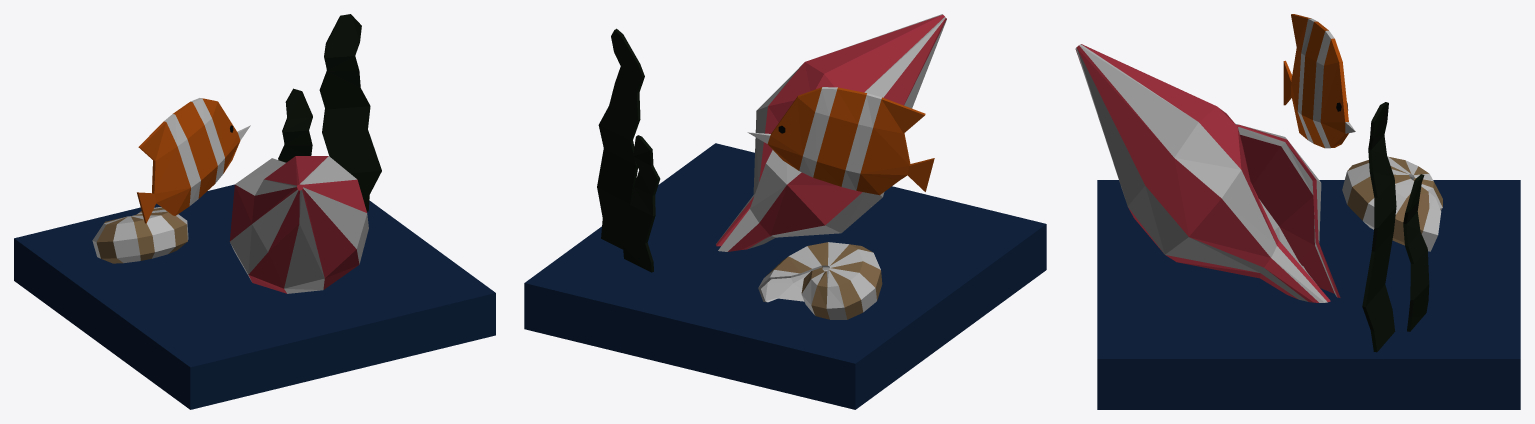
Rendered from W_O_Playground_SeaSymbolic_001_L2.fbx.
3 views of the same model, side by side, from view 1: azimuth 30°, elevation 25°; view 2: azimuth 150°, elevation 25°; view 3: azimuth 270°, elevation 25° (orthographic). The views are drawn at different scales.
Parts seen in each view (by area): view 1: W_O_Playground_SeaSymbolic_001_L2; view 2: W_O_Playground_SeaSymbolic_001_L2; view 3: W_O_Playground_SeaSymbolic_001_L2.
Boxes of the visible parts, <box> form: W_O_Playground_SeaSymbolic_001_L2: <box>14,14,495,409</box>; W_O_Playground_SeaSymbolic_001_L2: <box>524,14,1046,409</box>; W_O_Playground_SeaSymbolic_001_L2: <box>1075,14,1520,409</box>.
Size of the model in its own units: 2 by 1.51 by 2.1.
